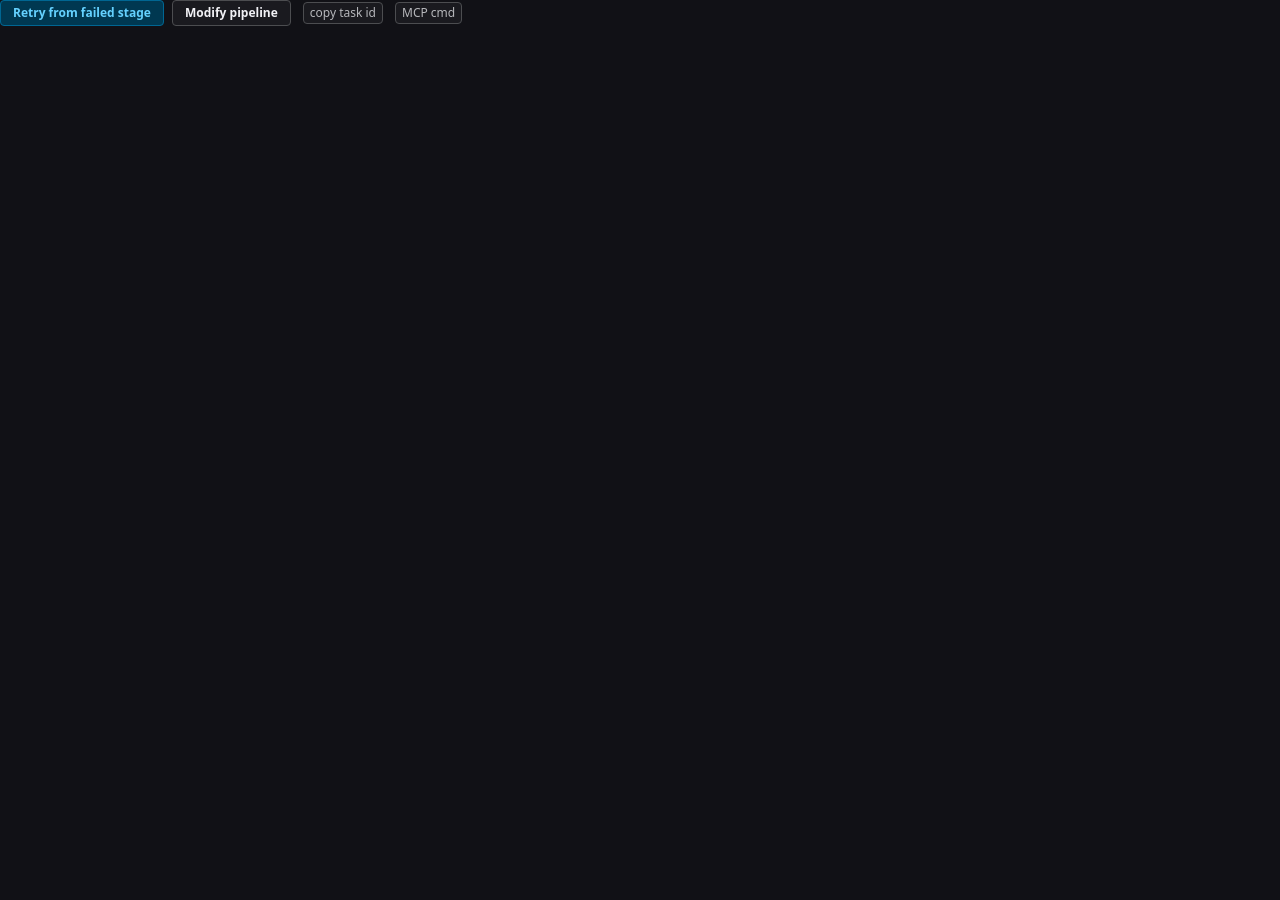
Test: TaskActionsBar — propose-fix integration › renders gracefully when propose-fix returns no suggestions
Step 1. Click the button "Modify pipeline" → click(231, 13), box [172,0,291,26]
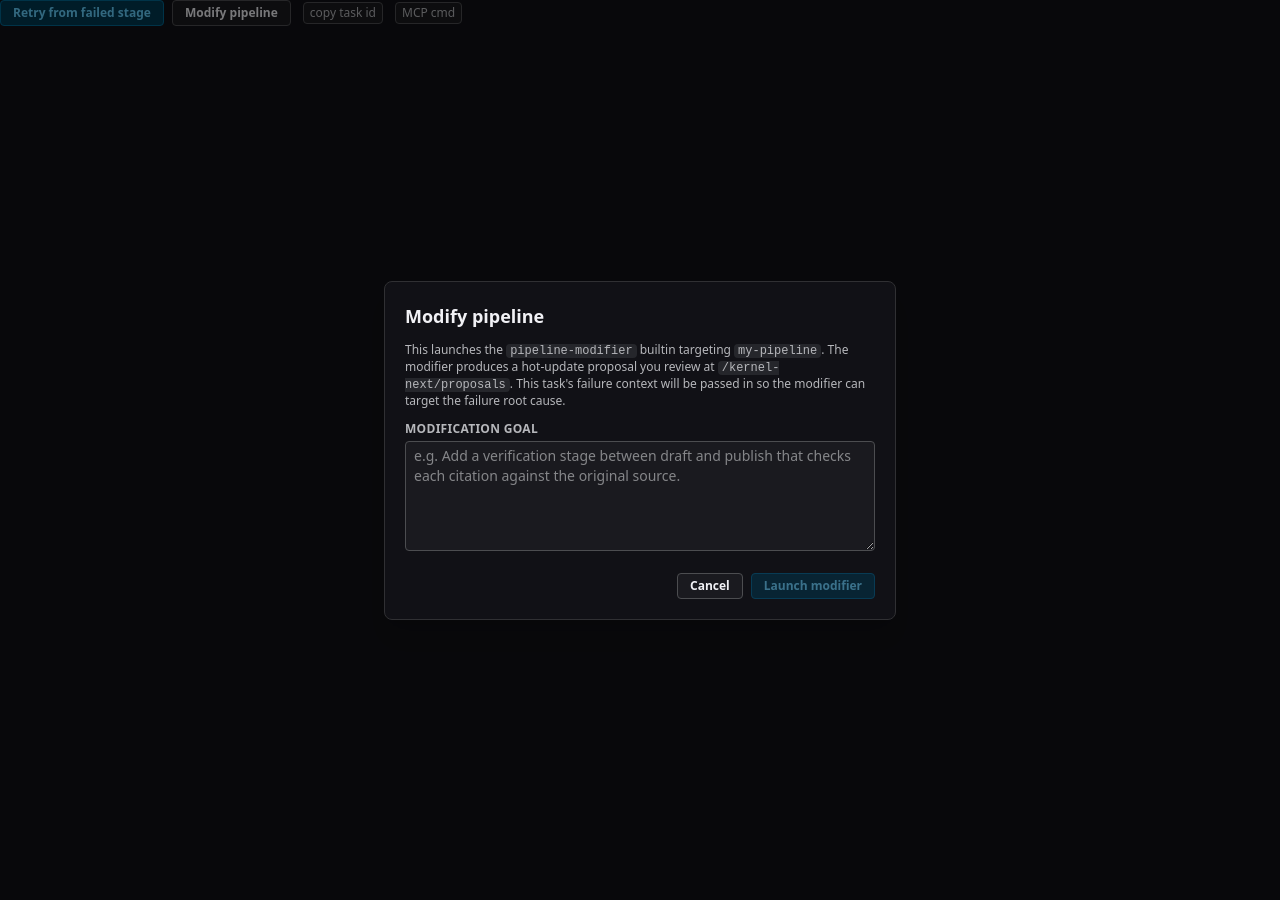
Expected: the text box labelled "Modification goal" is shown, [405,440,875,550]
